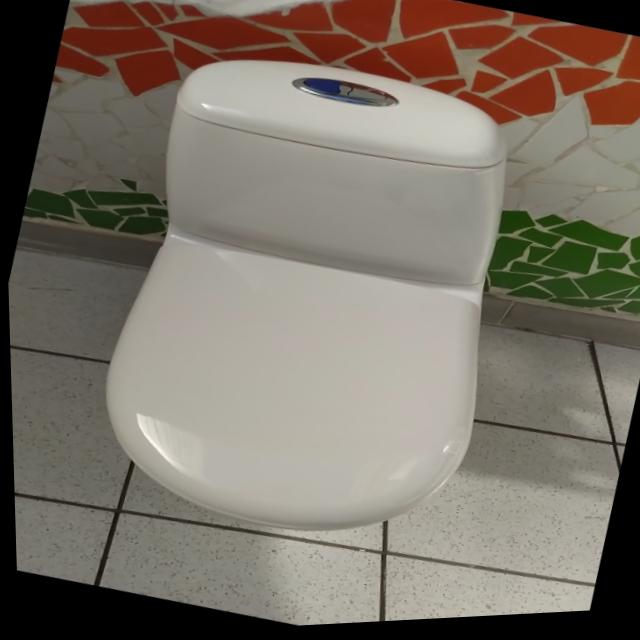toilet: (68, 22, 553, 579)
